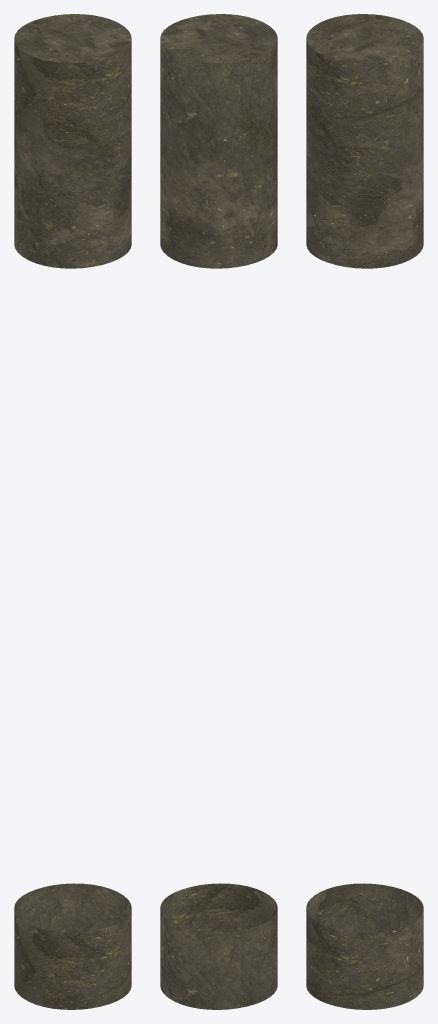
File: suidao_25.glb
The picture shows the model from 3 angles, left to right: view 1: azimuth 30°, elevation 25°; view 2: azimuth 210°, elevation 25°; view 3: azimuth 330°, elevation 25°; orthographic projection.
Visible parts, largest first — view 1: XSBYSZK_03; view 2: XSBYSZK_03; view 3: XSBYSZK_03.
Part boxes in pixels (x1,y1,x2,y2): XSBYSZK_03: (14,14,131,1009); XSBYSZK_03: (160,14,277,1009); XSBYSZK_03: (306,14,423,1009).
Bounding box in the file's own units: 8.79 × 78.3 × 8.6.
1 material, 1 textured.
